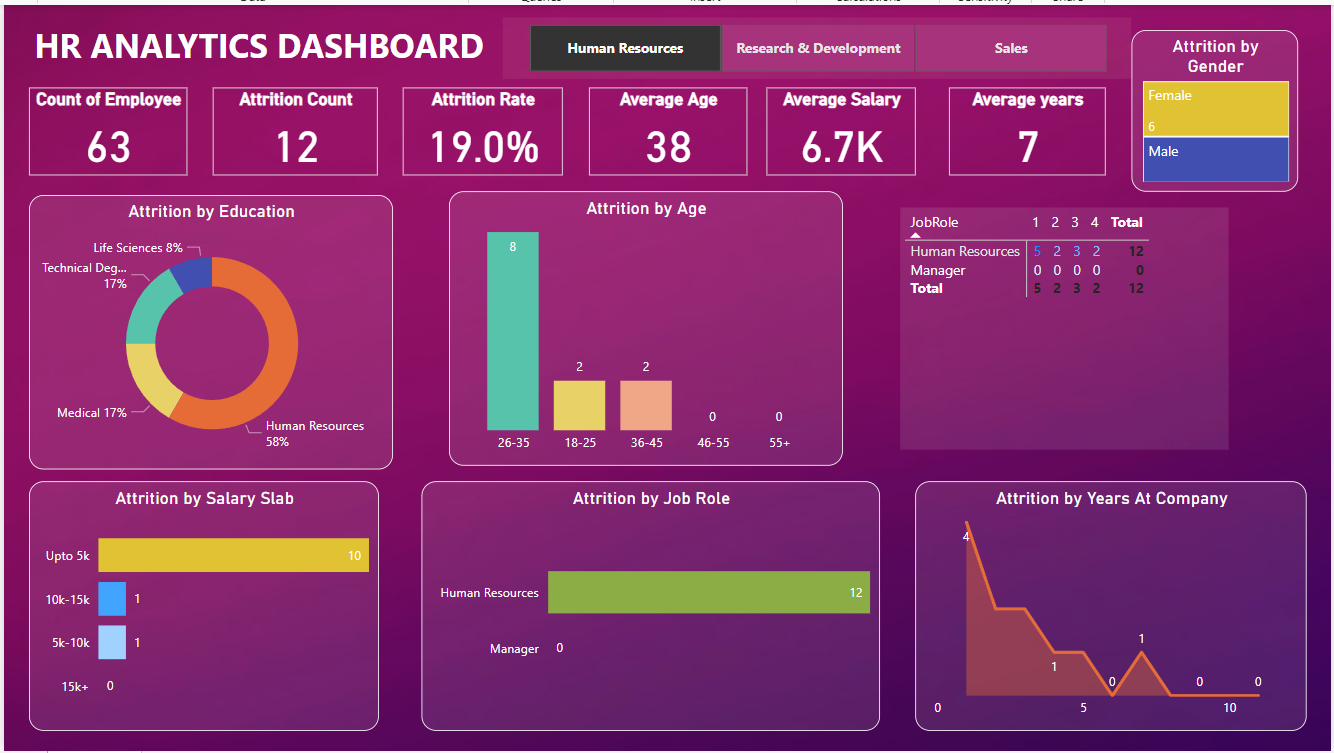

The dashboard page shown, as its layout file describes it:
{"tool":"powerbi","page":{"name":"Page 1","canvas":[1280,720],"ordinal":0},"visuals":[{"type":"card","title":"Count of Employee","fields":{"Values":["CountNonNull(HR_Analytics.EmpID)"]},"box":[23.7,79.7,152.5,84.7],"z":0},{"type":"card","title":"Attrition Count ","fields":{"Values":["Sum(HR_Analytics.AttritionCount)"]},"box":[201.7,79.7,159.3,84.7],"z":1000},{"type":"card","title":"Average Age","fields":{"Values":["Avg(HR_Analytics.Age)"]},"box":[564.4,79.7,152.5,84.7],"z":2000},{"type":"card","title":"Attrition Rate","fields":{"Values":["HR_Analytics.AttritionRate"]},"box":[384.7,79.7,154.2,84.7],"z":3000},{"type":"card","title":"Average years","fields":{"Values":["Avg(HR_Analytics.YearsAtCompany)"]},"box":[911.9,79.7,150.8,84.7],"z":4000},{"type":"card","title":"Average Salary","fields":{"Values":["Avg(HR_Analytics.MonthlyIncome)"]},"box":[735.6,79.7,144.1,84.7],"z":5000},{"type":"donutChart","title":"Attrition by Education","fields":{"Category":["HR_Analytics.EducationField"],"Y":["Sum(HR_Analytics.AttritionCount)"]},"box":[23.7,183.1,350.8,264.4],"z":6000},{"type":"columnChart","title":"Attrition by Age","fields":{"Category":["HR_Analytics.AgeGroup"],"Y":["Sum(HR_Analytics.AttritionCount)"]},"box":[428.8,179.7,379.7,264.4],"z":7000},{"type":"barChart","title":"Attrition by Salary Slab","fields":{"Category":["HR_Analytics.SalarySlab"],"Y":["Sum(HR_Analytics.AttritionCount)"]},"box":[23.7,459.3,337.3,240.7],"z":8000},{"type":"barChart","title":"Attrition by Job Role","fields":{"Category":["HR_Analytics.JobRole"],"Y":["Sum(HR_Analytics.AttritionCount)"]},"box":[403.4,459.3,442.4,240.7],"z":9000},{"type":"areaChart","title":"Attrition by Years At Company","fields":{"Category":["HR_Analytics.YearsAtCompany"],"Y":["Sum(HR_Analytics.AttritionCount)"]},"box":[879.7,459.3,378,240.7],"z":10000},{"type":"treemap","title":"Attrition by Gender","fields":{"Group":["HR_Analytics.Gender"],"Values":["Sum(HR_Analytics.AttritionCount)"]},"box":[1088.1,23.7,161,155.9],"z":11000},{"type":"slicer","fields":{"Values":["HR_Analytics.Department"]},"box":[481.4,11.9,606.8,59.3],"z":12000},{"type":"textbox","box":[23.7,11.9,515.3,67.8],"z":13000},{"type":"pivotTable","fields":{"Rows":["HR_Analytics.JobRole"],"Columns":["HR_Analytics.JobSatisfaction"],"Values":["Sum(HR_Analytics.AttritionCount)"]},"box":[864.4,194.9,316.9,233.9],"z":14000}]}

Visuals, with their boxes in screenshot pixels (x1, y1, x2, y2), scaled from the page's 1280x720 canvas onto the 1334x753 screenshot:
"Count of Employee" card: [25, 83, 184, 172]
"Attrition Count " card: [210, 83, 376, 172]
"Average Age" card: [588, 83, 747, 172]
"Attrition Rate" card: [401, 83, 562, 172]
"Average years" card: [950, 83, 1108, 172]
"Average Salary" card: [767, 83, 917, 172]
"Attrition by Education" donutChart: [25, 191, 390, 468]
"Attrition by Age" columnChart: [447, 188, 843, 464]
"Attrition by Salary Slab" barChart: [25, 480, 376, 732]
"Attrition by Job Role" barChart: [420, 480, 881, 732]
"Attrition by Years At Company" areaChart: [917, 480, 1311, 732]
"Attrition by Gender" treemap: [1134, 25, 1302, 188]
slicer - HR_Analytics.Department: [502, 12, 1134, 74]
textbox: [25, 12, 562, 83]
pivotTable - HR_Analytics.JobRole x HR_Analytics.JobSatisfaction: [901, 204, 1231, 448]
